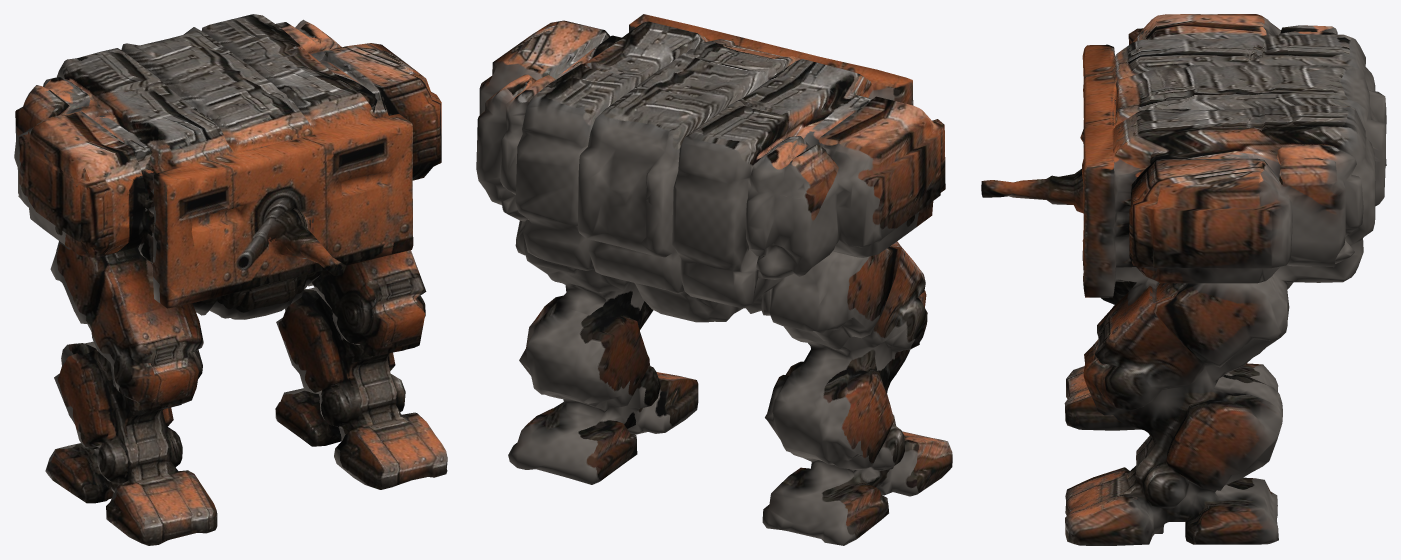
Rendered from mantlet_lod1.glb.
3 renders of one model, left to right at view 1: azimuth 30°, elevation 25°; view 2: azimuth 150°, elevation 25°; view 3: azimuth 270°, elevation 25°, orthographic. The views are drawn at different scales.
Parts seen in each view (by area): view 1: geometry_0; view 2: geometry_0; view 3: geometry_0.
Part boxes in pixels (<box>): geometry_0: <box>14,14,447,545</box>; geometry_0: <box>476,14,952,545</box>; geometry_0: <box>981,14,1386,545</box>.
Bounding box in the file's own units: 1.99 × 1.98 × 1.88.
1 material, 1 textured.
